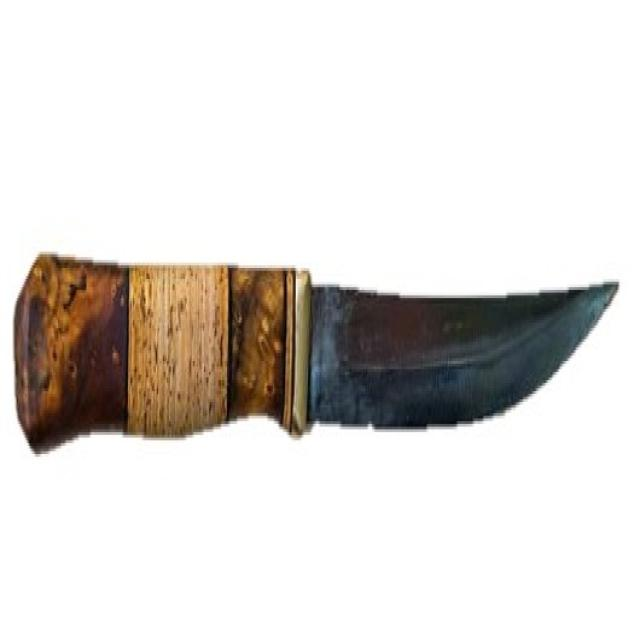knife: (13, 214, 625, 468)
